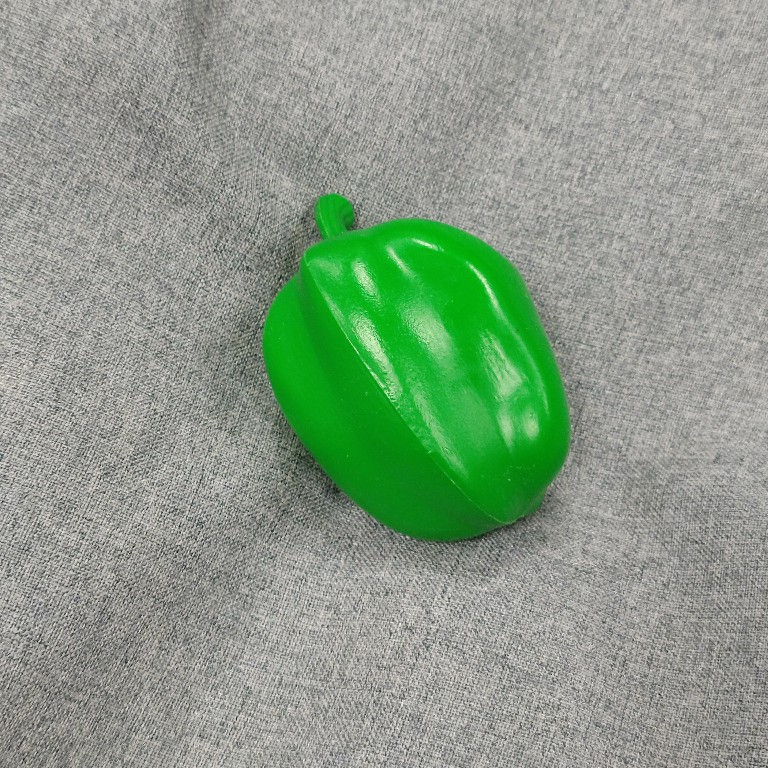fruit_pepper: (254, 187, 577, 549)
